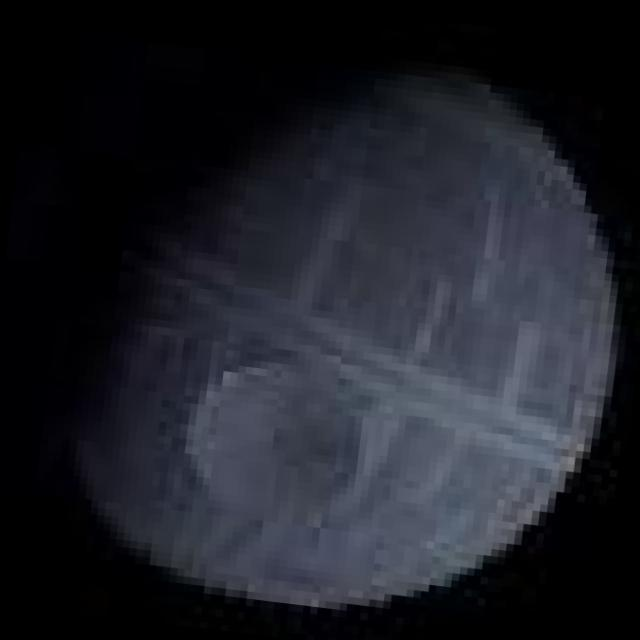Death Star: (37, 22, 640, 640)
